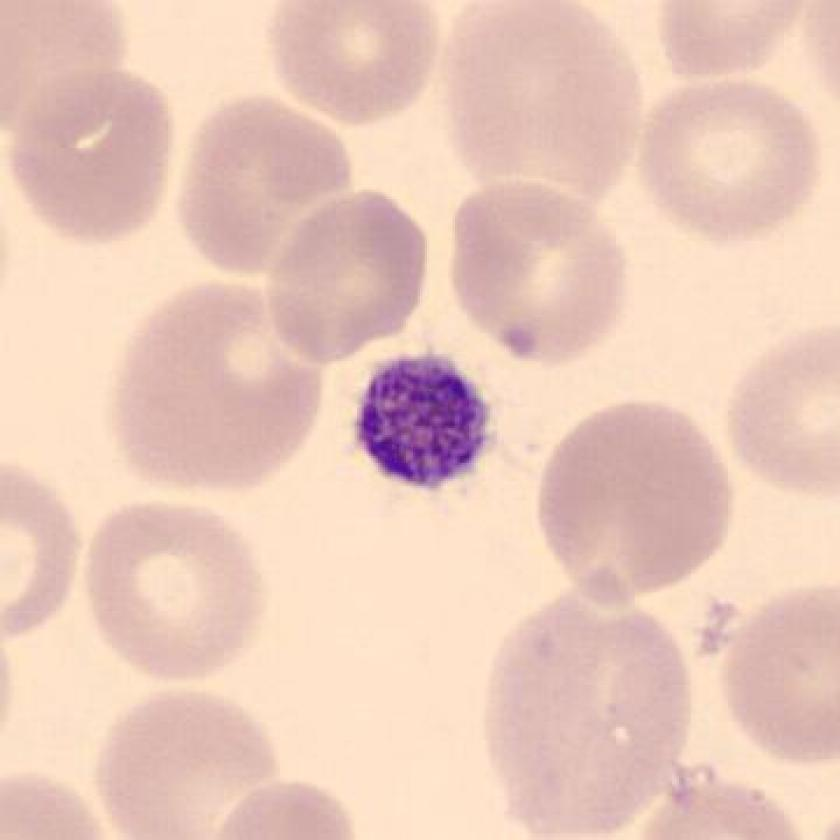platelets: (344, 346, 500, 498)
